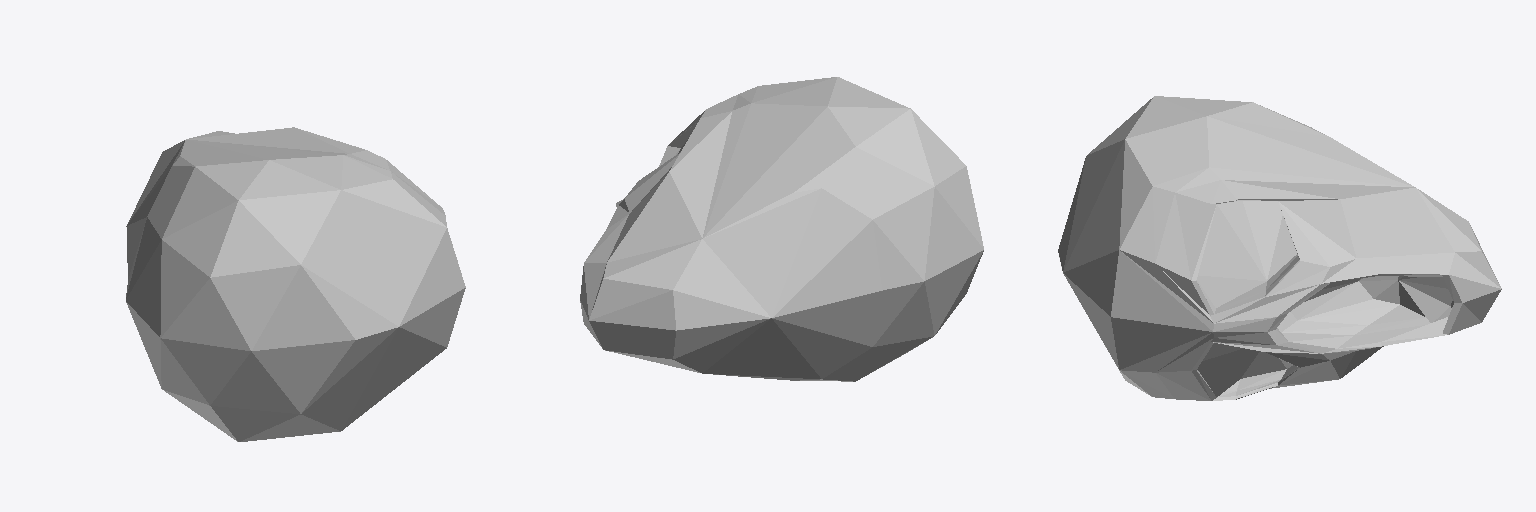
Rendered from skul_batul_vfxmodel.obj.
The picture shows the model from 3 angles: view 1: azimuth 30°, elevation 25°; view 2: azimuth 150°, elevation 25°; view 3: azimuth 270°, elevation 25°; orthographic projection.
Size of the model in its own units: 1.8 by 1.42 by 2.22.